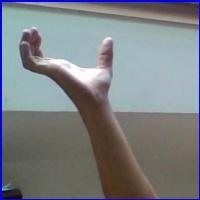B: (14, 22, 127, 99)
